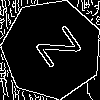Z: (27, 24, 83, 76)
